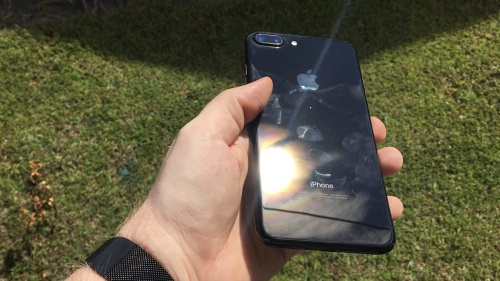apple: (294, 62, 321, 99)
